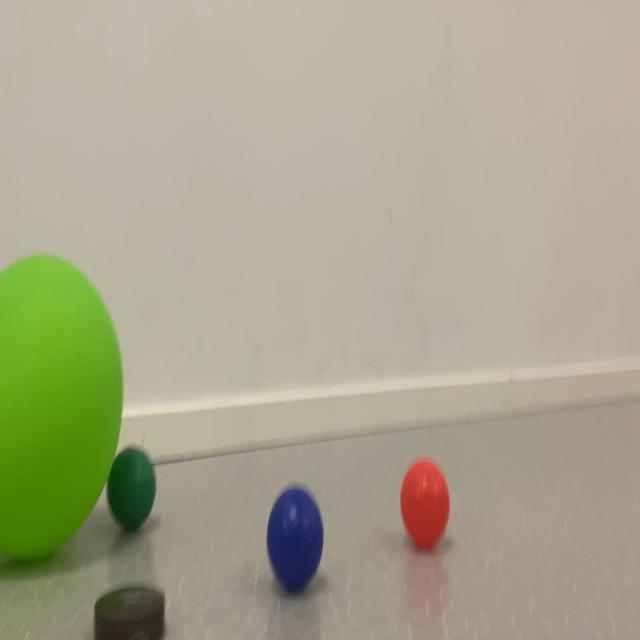7: (372, 432, 472, 590)
green ball: (253, 456, 349, 616)
red ball: (95, 426, 185, 548)
